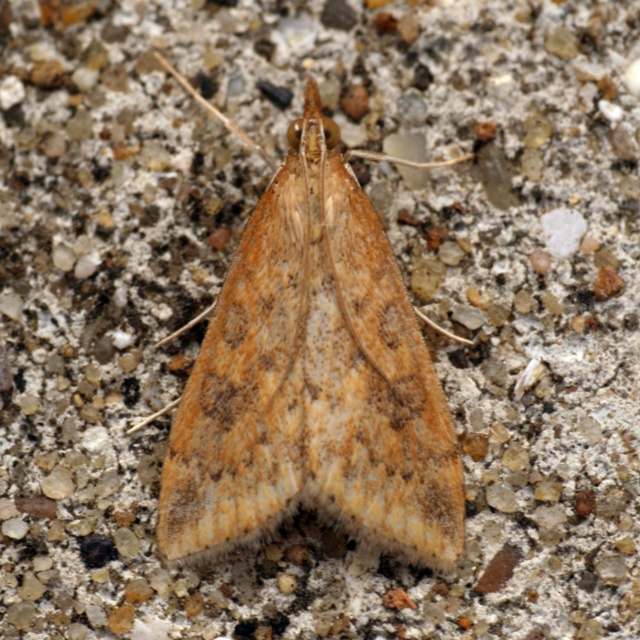Moths and butterflies: (125, 46, 476, 579)
